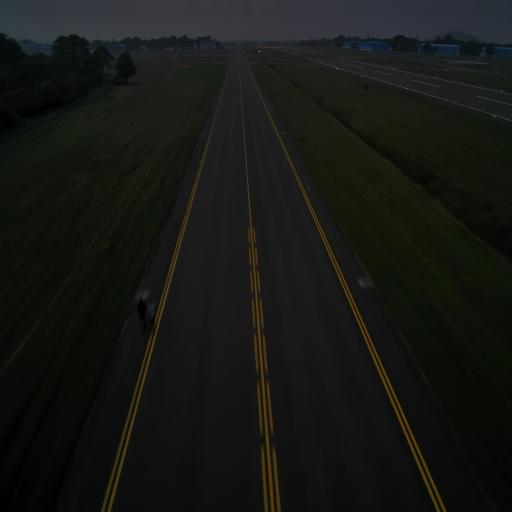on: (358, 272, 366, 284), (142, 285, 148, 296)
